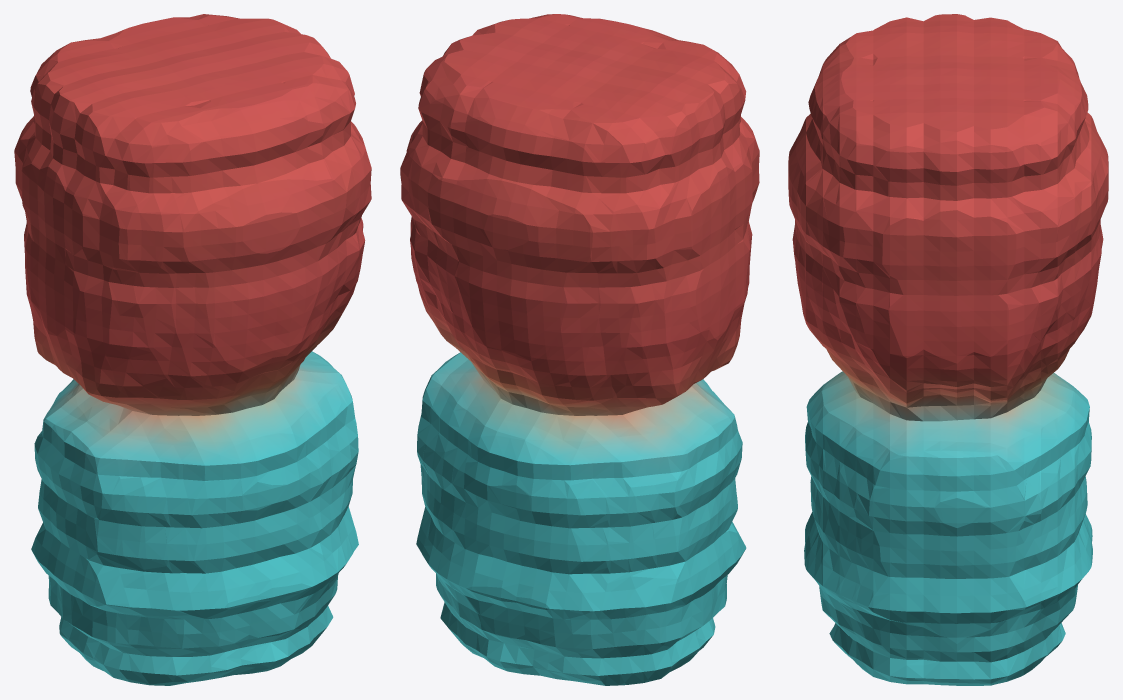
3 views of the same model, side by side, from view 1: azimuth 30°, elevation 25°; view 2: azimuth 150°, elevation 25°; view 3: azimuth 270°, elevation 25° (orthographic).
Parts seen in each view (by area): view 1: geometry_0; view 2: geometry_0; view 3: geometry_0.
Boxes of the visible parts, x1,y1,x2,y2 form: geometry_0: (14,14,371,685); geometry_0: (400,14,759,685); geometry_0: (788,14,1108,685).
Bounding box in the file's own units: 0.8399 × 1.61 × 0.813.
